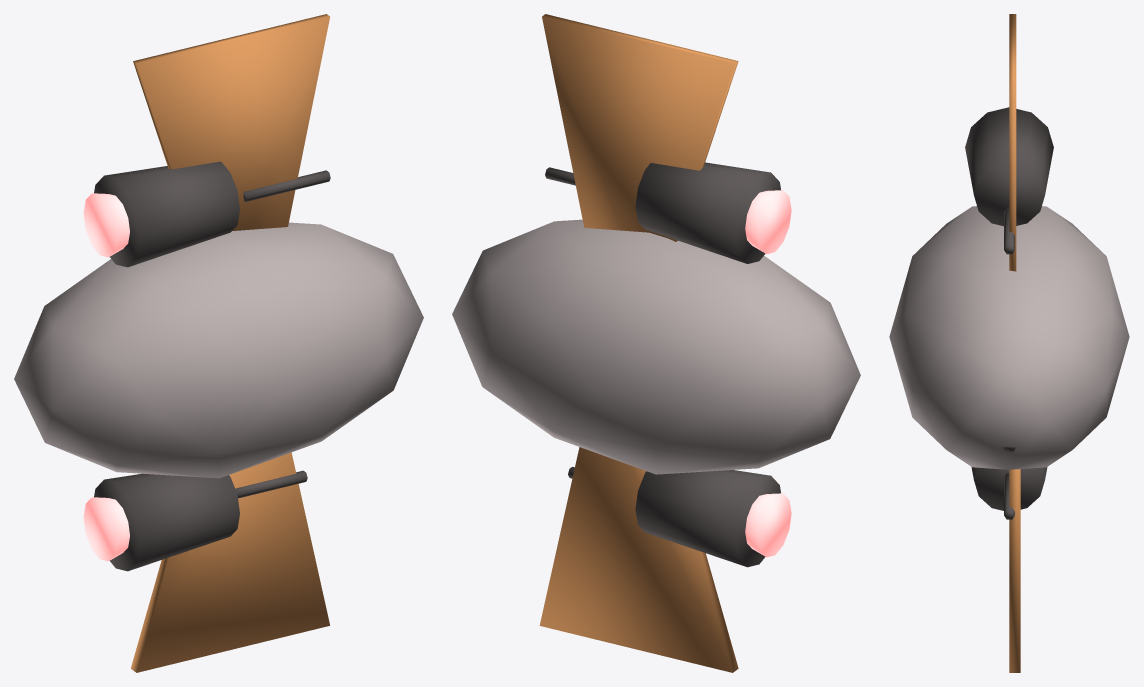
File: enemy-ship-5.glb
The picture shows the model from 3 angles, left to right: view 1: azimuth 30°, elevation 25°; view 2: azimuth 150°, elevation 25°; view 3: azimuth 270°, elevation 25°; orthographic projection. The views are drawn at different scales.
Parts seen in each view (by area): view 1: Starfighter; view 2: Starfighter; view 3: Starfighter.
Boxes of the visible parts, <box> form: Starfighter: <box>14,14,423,672</box>; Starfighter: <box>452,14,860,672</box>; Starfighter: <box>889,14,1129,672</box>.
Size of the model in its own units: 0.9545 by 1.5 by 0.5725.
